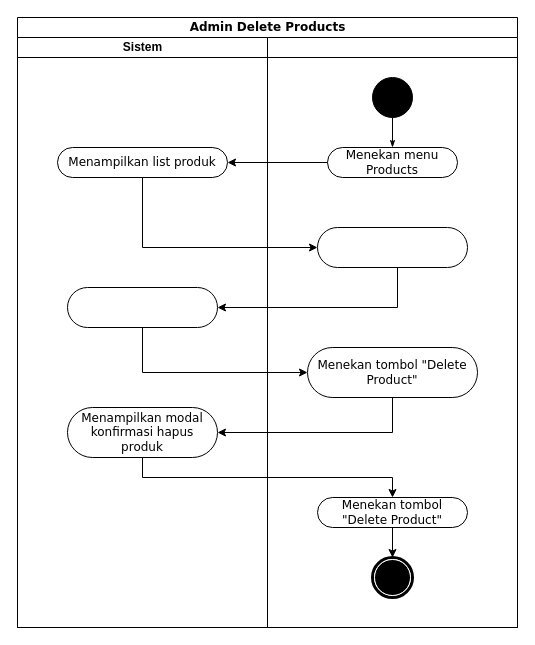
The diagram is 535 pixels wide and 645 high, and some of its shapes have lost their labels. The box of each missing label's shape, as (x1, y1, x2, y2) in pixels:
Admin: (266, 36, 518, 628)
Menampilkan detail produk yang dipilih: (66, 286, 218, 328)
Menekan details pada salah satu produk: (316, 226, 468, 268)
